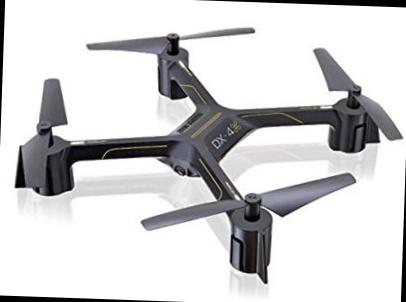drone: (5, 22, 398, 264)
